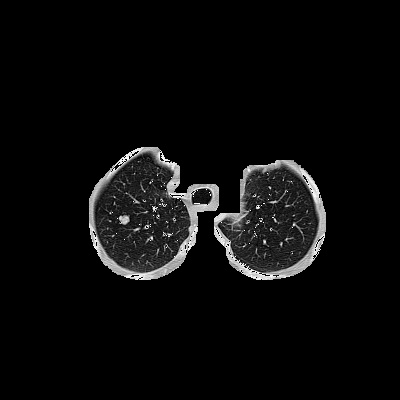PN: (119, 215, 129, 225)
